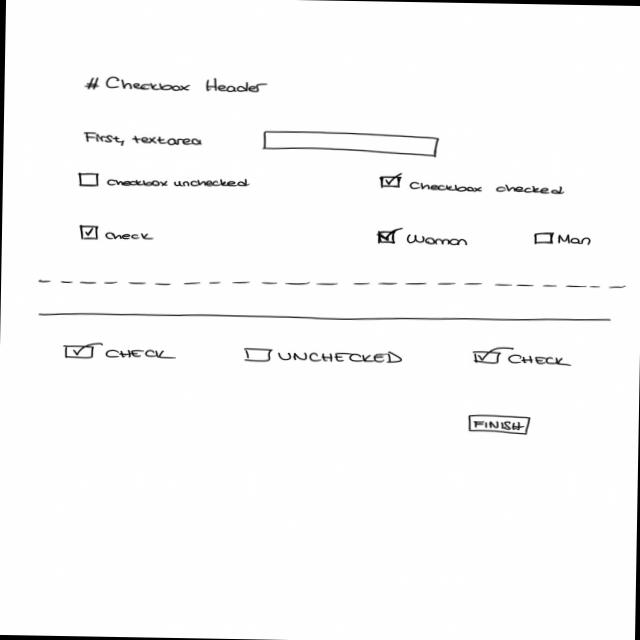button: (466, 412, 532, 436)
checkbox: (378, 170, 567, 196), (76, 170, 250, 191), (243, 346, 407, 365), (61, 341, 178, 362), (471, 344, 574, 367), (375, 226, 469, 247), (78, 223, 154, 242), (532, 230, 594, 248)
input: (262, 128, 439, 158)
label: (82, 74, 268, 96), (82, 130, 204, 148)
